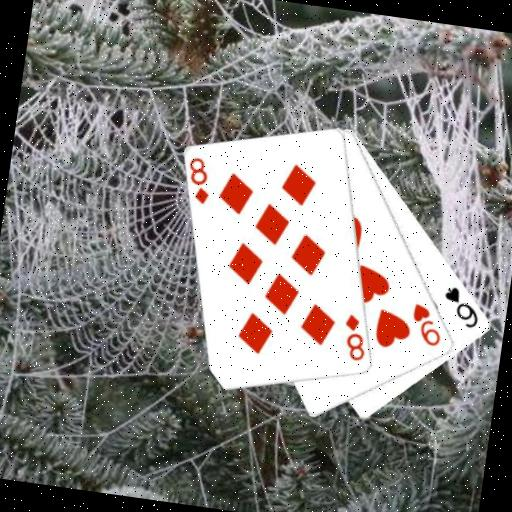6S: (437, 282, 485, 331)
8D: (338, 310, 372, 364), (182, 154, 216, 208)
9H: (406, 300, 447, 350)
